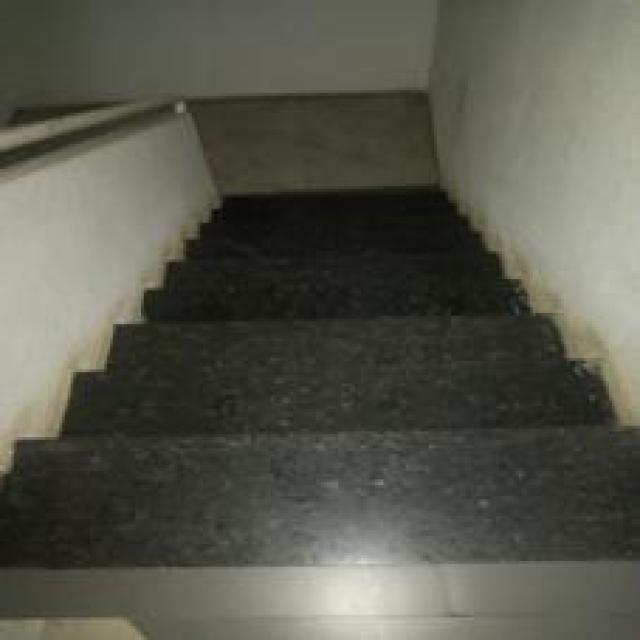downstair: (26, 275, 616, 492)
